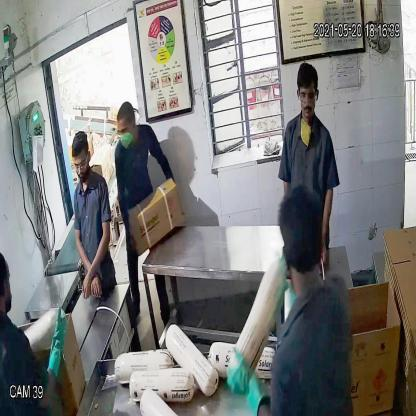goggles: (296, 84, 319, 106), (70, 153, 91, 173)
